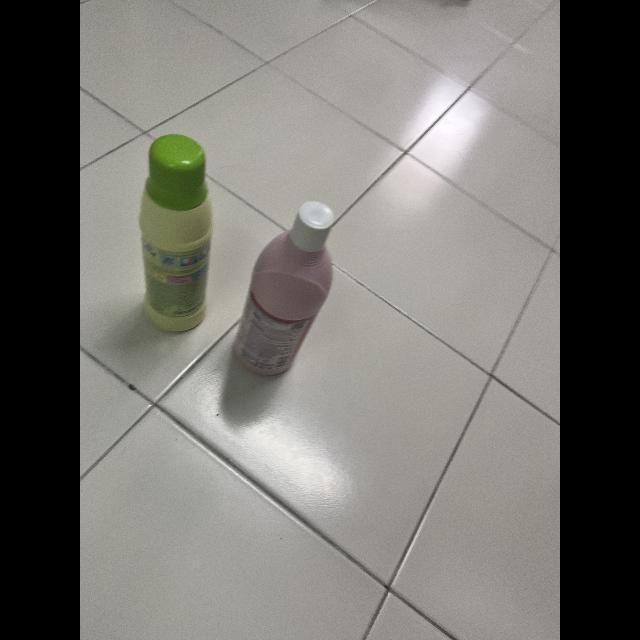chemical_plastic_bottle: (236, 200, 340, 384), (136, 129, 214, 333)
